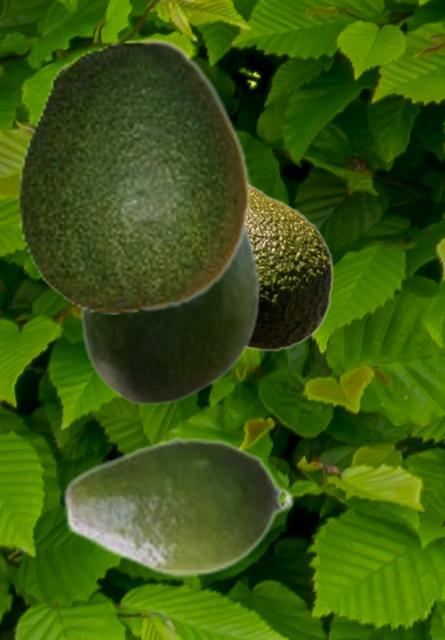avocado: (17, 38, 250, 313), (61, 434, 294, 578), (79, 222, 259, 405), (247, 182, 333, 351)
